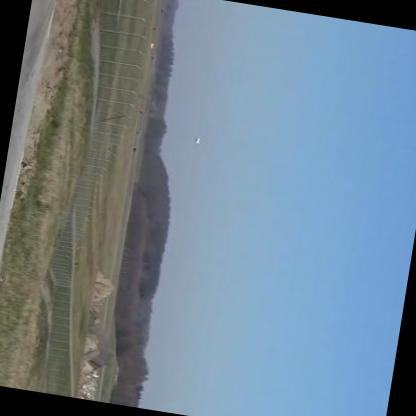plane: (189, 131, 205, 149)
